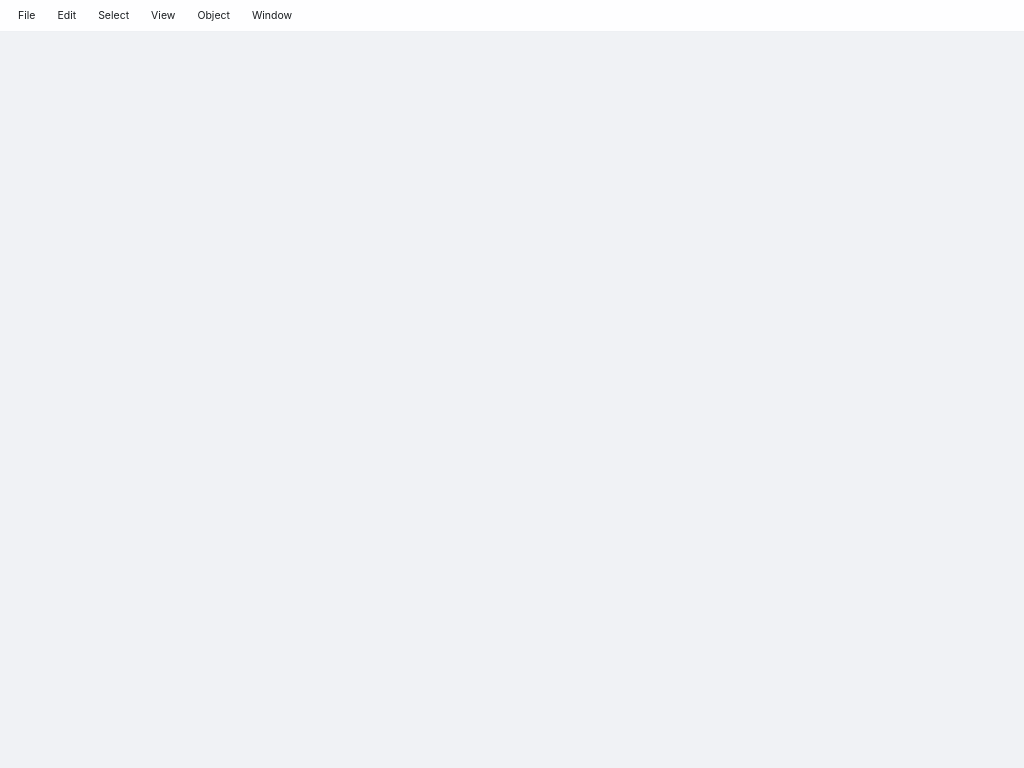
Test case: MenuBar behavior › closes open menu when clicking outside
Click the button "File" at [27, 16], box [10,5,43,26]
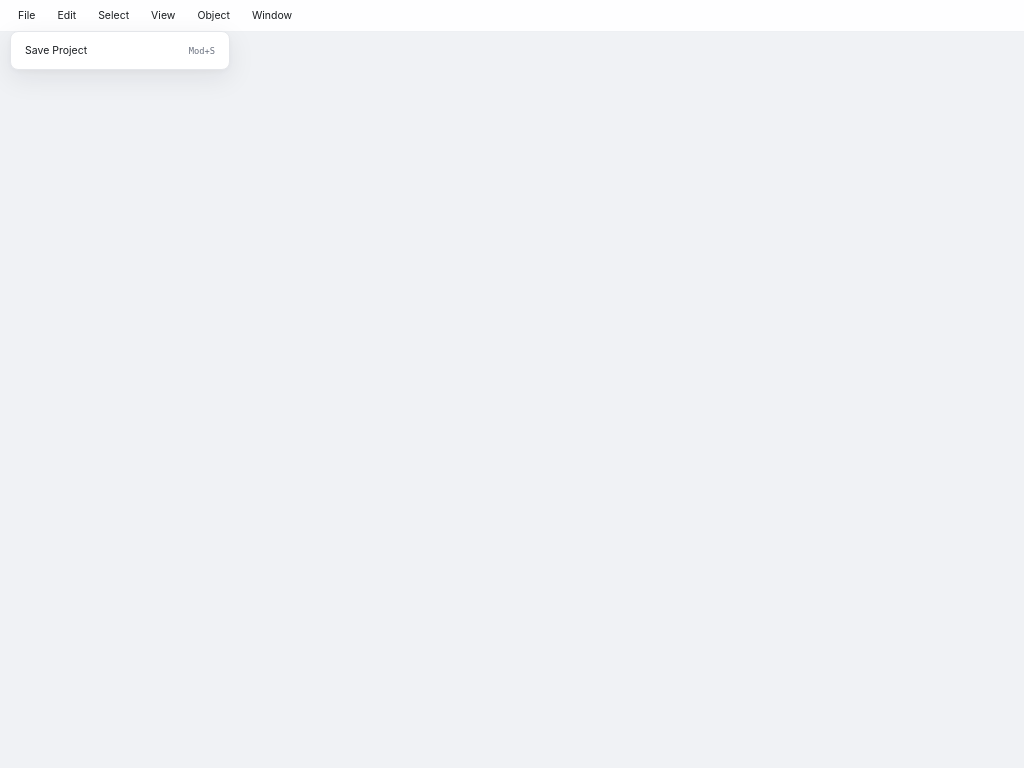
Expected: the button "Save Project Mod+S" is shown, [17,38,223,63]
Press the mouse on the element showing "File Save Project Mod+S Edit Select View Object Window" at [512, 384], box [0,0,1023,767]
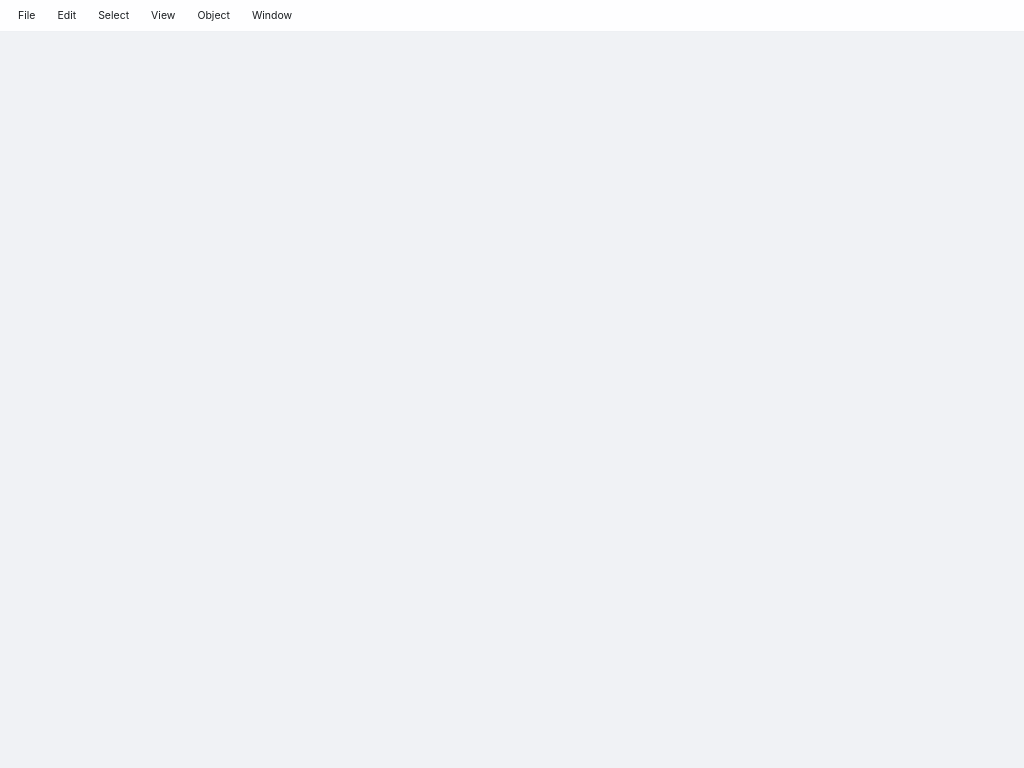
Expected: the button "Save Project" is gone
